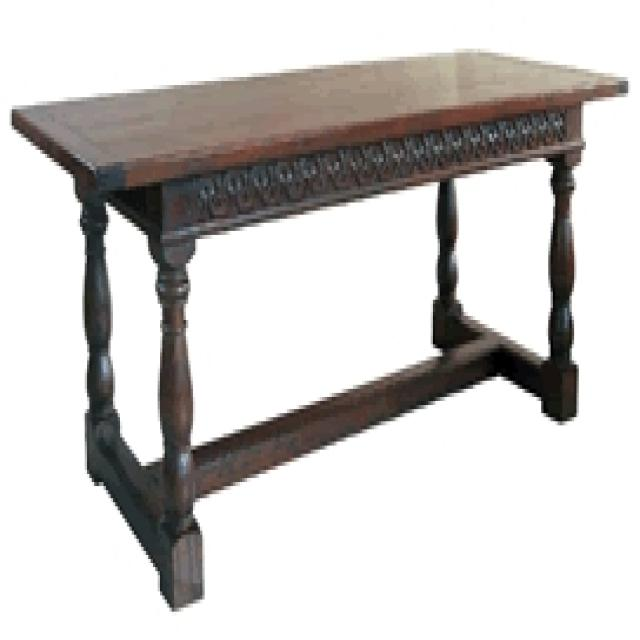table: (12, 50, 627, 610)
